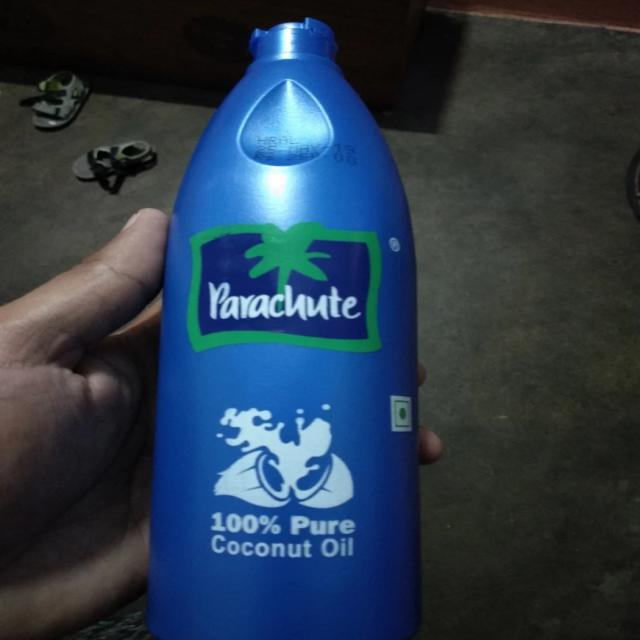parachute_oil: (153, 6, 421, 640)
